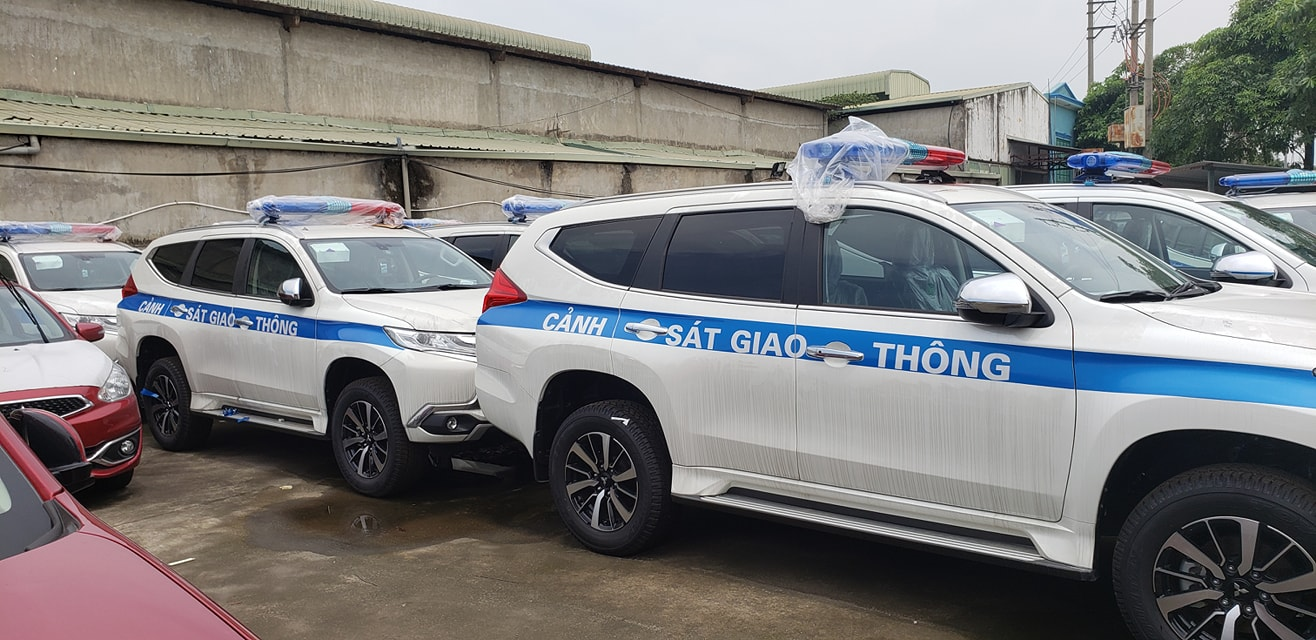oto: (125, 165, 1310, 596), (118, 212, 523, 501), (0, 223, 142, 502)
